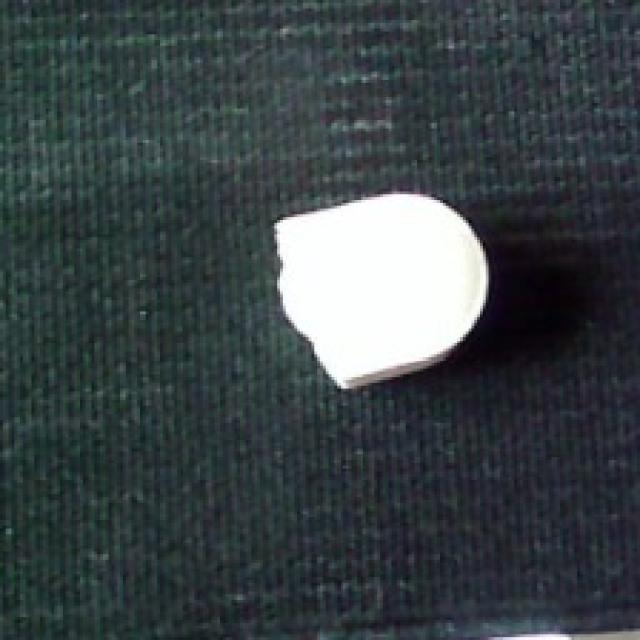defected: (263, 180, 497, 394)
